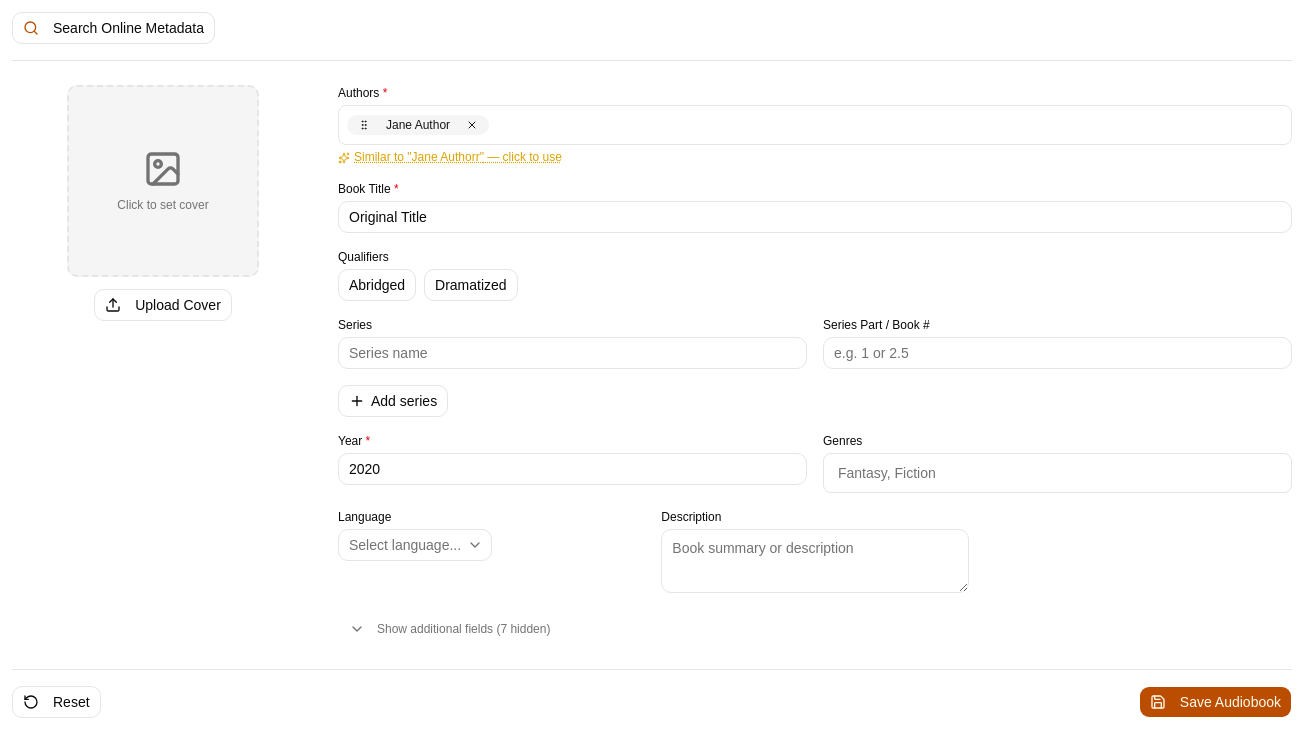
Test: BookEditForm › clears the author hint once the flagged entry is removed
The image size is (1304, 732).
Check: the button "Similar to \"Jane Authorr\" — click to use" is shown, box top-left (338, 149), bottom-right (562, 165)
Click the button named "Remove Jane Author" at (472, 125), box top-left (460, 113), bottom-right (484, 137)
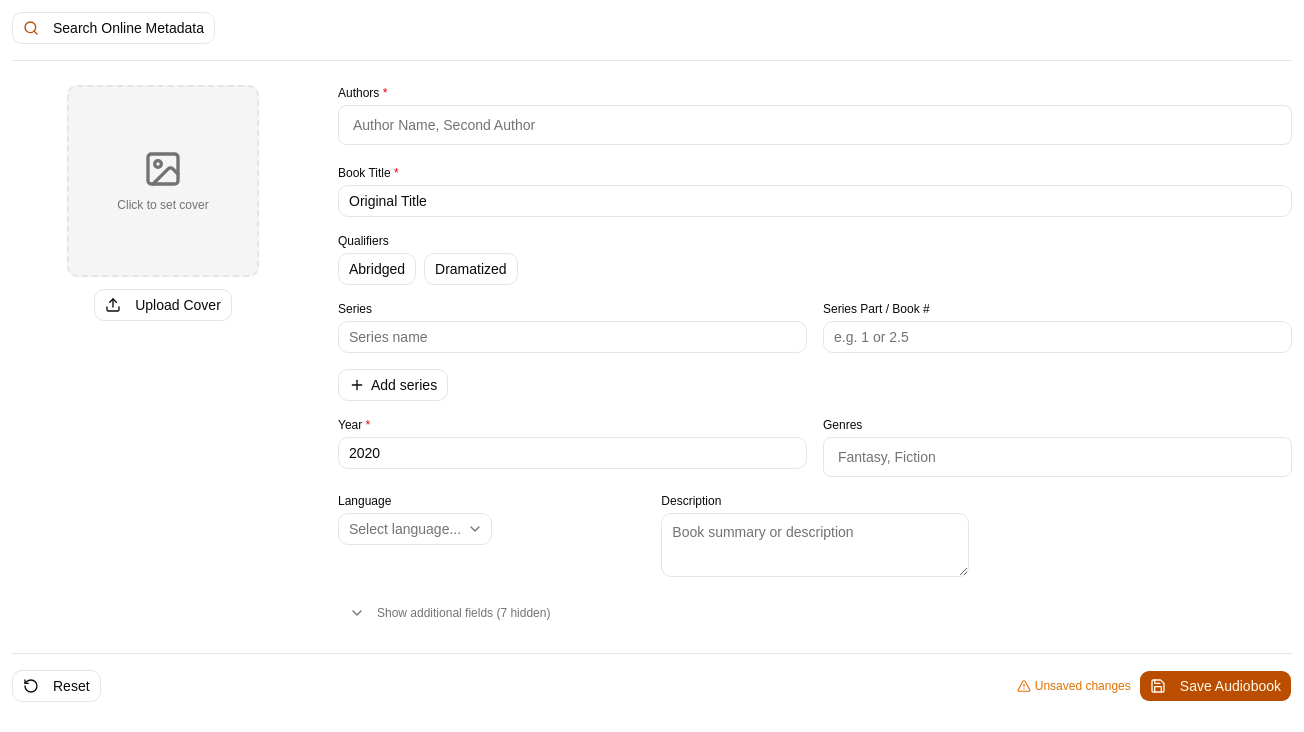
Check: the button "Similar to \"Jane Authorr\" — click to use" is gone
